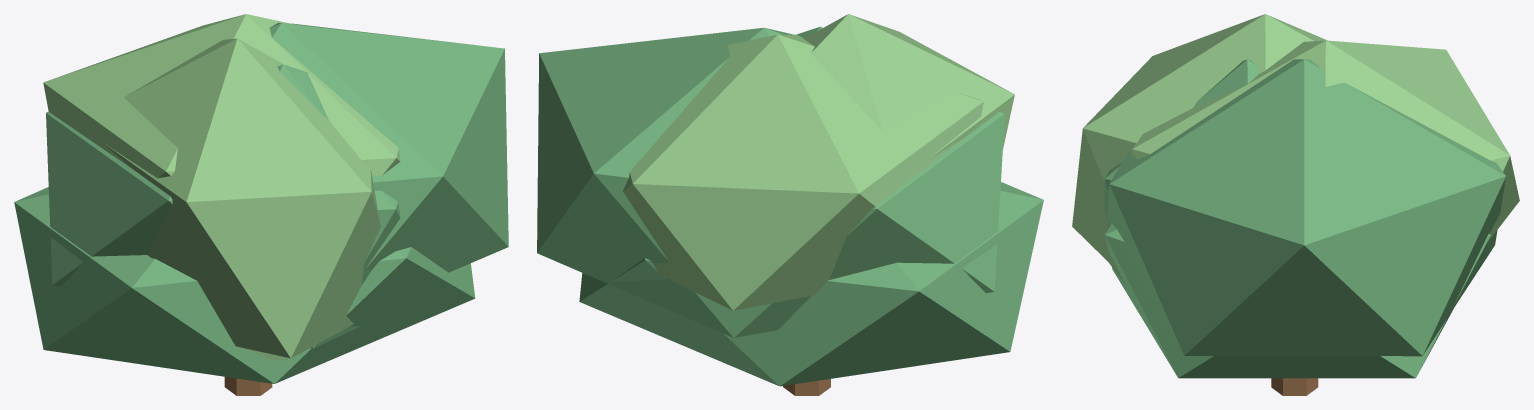
The model's file is bush_02.glb.
3 views of the same model, side by side, from view 1: azimuth 30°, elevation 25°; view 2: azimuth 150°, elevation 25°; view 3: azimuth 270°, elevation 25° (orthographic). The views are drawn at different scales.
Parts seen in each view (by area): view 1: bush_02; view 2: bush_02; view 3: bush_02.
Part boxes in pixels (x1=…): bush_02: x1=14, y1=14, x2=508, y2=395; bush_02: x1=537, y1=14, x2=1043, y2=395; bush_02: x1=1072, y1=14, x2=1519, y2=395.
Size of the model in its own units: 1.24 by 0.9314 by 1.05.
